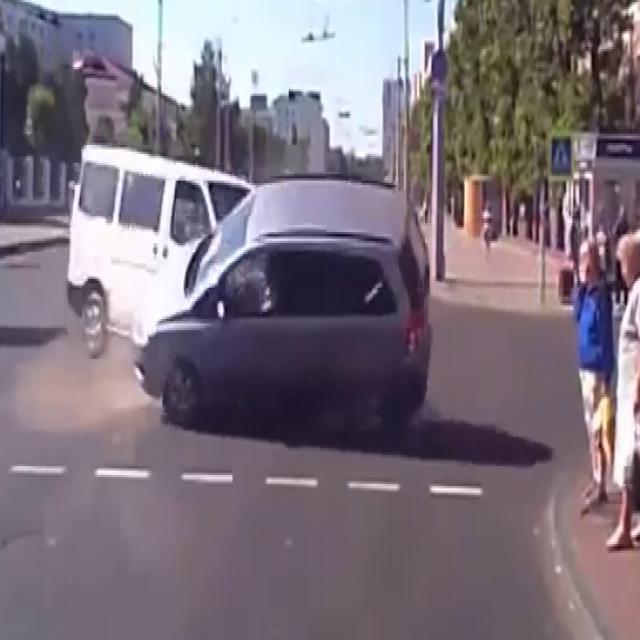accident: (102, 116, 401, 450)
